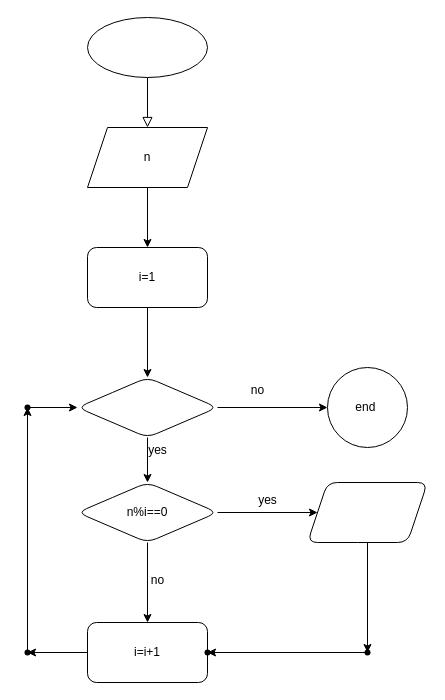
The diagram is 445 pixels wide and 700 high, and some of its shapes have lost their labels. Here are the shapes that lost their labels. From the top down, the centre of each, then its label:
At [147,47]: "star".
At [147,407]: "i<=n".
At [367,512]: "printf i".
